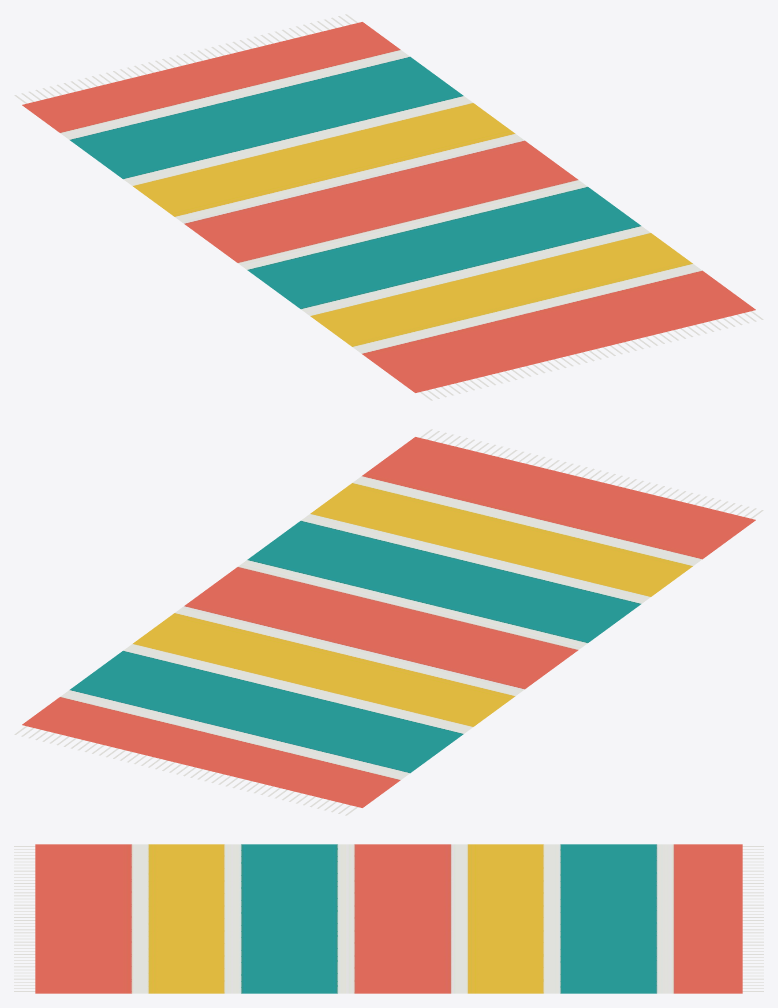
Rendered from Weapon_Towel.glb.
3 renders of one model, top to bottom at view 1: azimuth 30°, elevation 25°; view 2: azimuth 150°, elevation 25°; view 3: azimuth 270°, elevation 25°, orthographic. The views are drawn at different scales.
Parts seen in each view (by area): view 1: Weapon_Towel, Towel_Fringe; view 2: Weapon_Towel, Towel_Fringe; view 3: Weapon_Towel, Towel_Fringe.
Part boxes in pixels (bbox=[...]): Weapon_Towel: bbox=[22, 22, 755, 392]; Towel_Fringe: bbox=[14, 14, 763, 400]; Weapon_Towel: bbox=[22, 437, 755, 807]; Towel_Fringe: bbox=[14, 429, 763, 815]; Weapon_Towel: bbox=[35, 844, 742, 993]; Towel_Fringe: bbox=[14, 846, 763, 991].
Bounding box in the file's own units: 0.75 × 0 × 1.59.
Materials: 2 (1 with a texture image).
